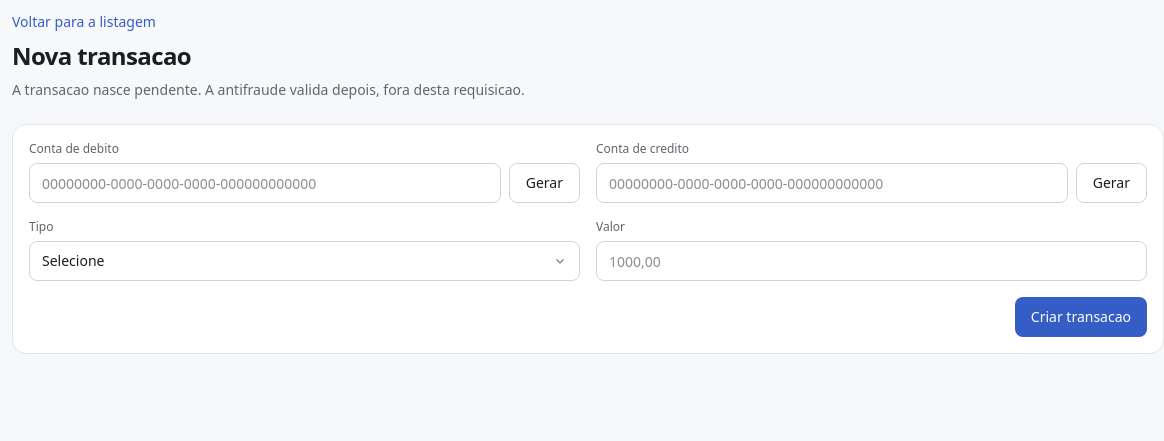
Test case: NewTransactionView › mostra a falha da api e devolve o formulario para quem estava preenchendo
Type "0199a2b1-6f4a-7c3d-8e1f-2a3b4c5d6e72" into the field labelled "Conta de debito". click: (265,183)
box: [29,163,501,203]
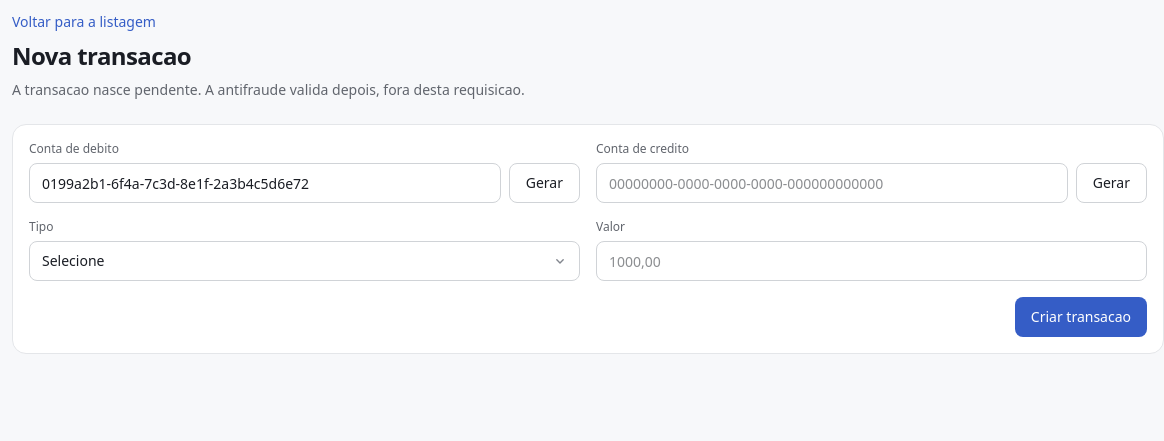
Type "0199a2b1-6f4a-7c3d-8e1f-2a3b4c5d6e73" into the field labelled "Conta de credito". click: (832,183)
box: [596,163,1068,203]
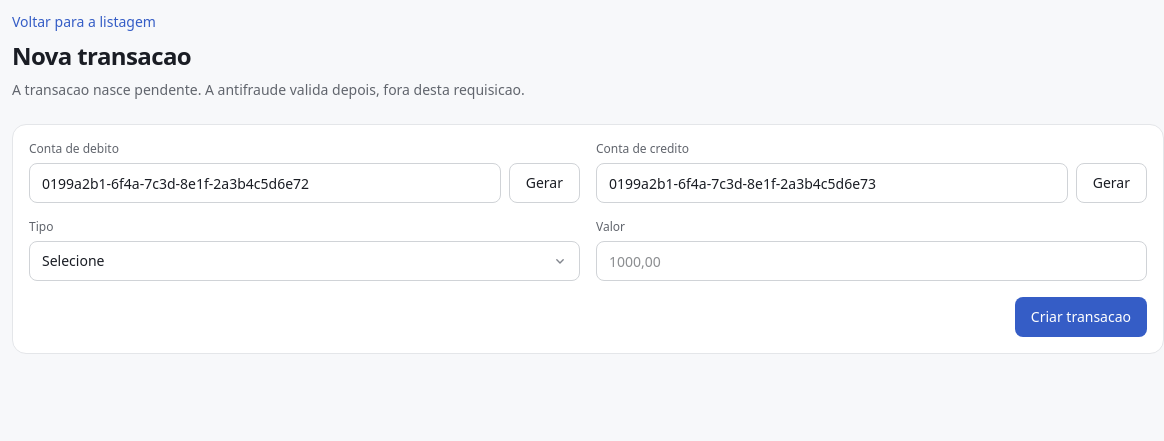
Select "Pagamento" in the dropdown labelled "Tipo". click: (304,261)
box: [29,241,580,281]
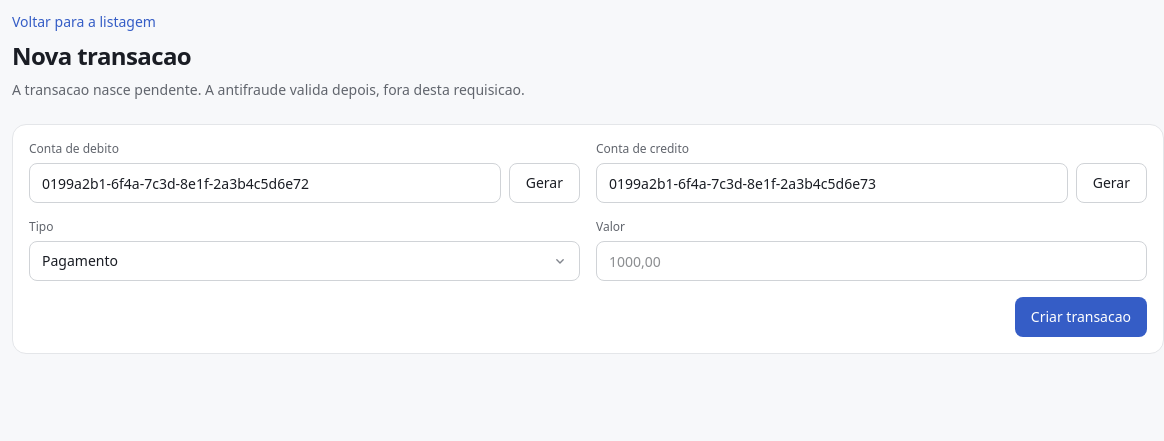
Type "1000,50" into the field labelled "Valor". click: (872,261)
box: [596,241,1147,281]
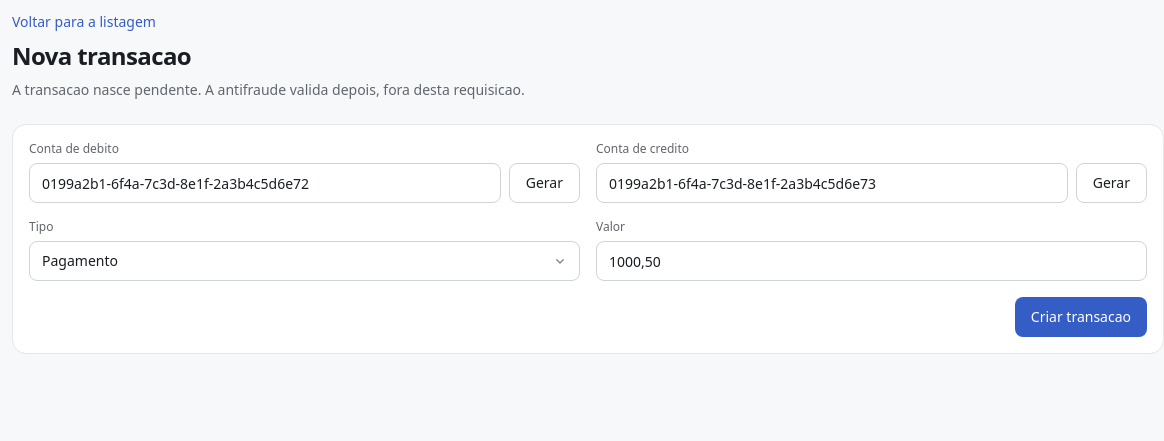
Click the button "Criar transacao". click: (1081,317)
box: [1015,297,1147,337]
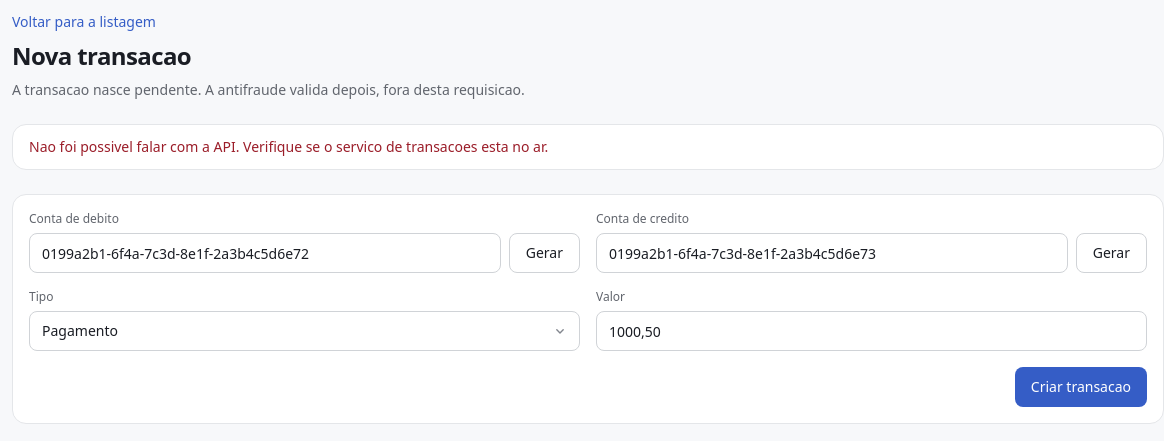
Expected: the button "Criar transacao" is enabled, [1015,367,1147,407]
Expected: the message shows "Nao foi possivel falar com a API", [29,137,548,156]
